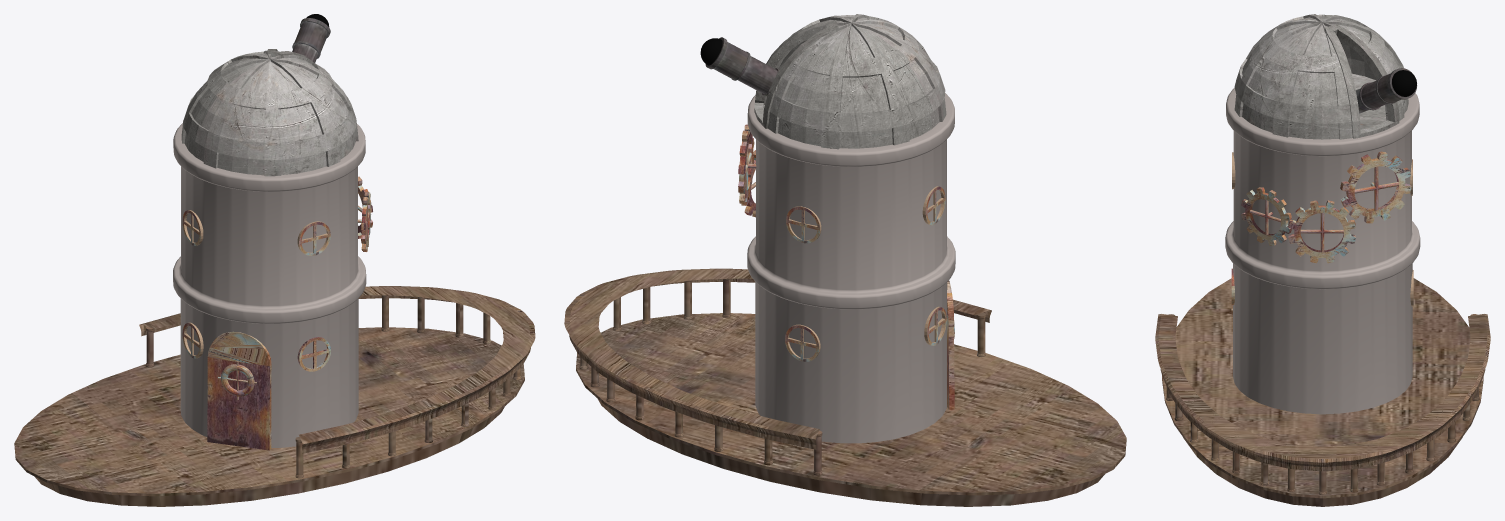
The model's file is Steampunk Tower.fbx.
3 views of the same model, side by side, from view 1: azimuth 30°, elevation 25°; view 2: azimuth 150°, elevation 25°; view 3: azimuth 270°, elevation 25° (orthographic). The views are drawn at different scales.
Parts seen in each view (by area): view 1: Wood, Main Tube, Top Sphere, Door, Gears, Lens Shaft; view 2: Wood, Main Tube, Top Sphere, Gears, Lens Shaft, Door; view 3: Main Tube, Wood, Top Sphere, Gears, Lens Shaft, Lens.
Part boxes in pixels (left/top/right/bottom): Wood: left=14, top=286, right=535, bottom=506; Main Tube: left=173, top=123, right=366, bottom=447; Top Sphere: left=181, top=49, right=358, bottom=176; Door: left=207, top=331, right=271, bottom=450; Gears: left=182, top=176, right=372, bottom=371; Lens Shaft: left=292, top=18, right=330, bottom=62; Wood: left=564, top=268, right=1126, bottom=506; Main Tube: left=747, top=93, right=955, bottom=443; Top Sphere: left=754, top=14, right=946, bottom=149; Gears: left=738, top=124, right=946, bottom=361; Lens Shaft: left=705, top=37, right=779, bottom=96; Door: left=947, top=280, right=954, bottom=410; Main Tube: left=1225, top=88, right=1420, bottom=414; Wood: left=1155, top=278, right=1490, bottom=506; Top Sphere: left=1234, top=14, right=1408, bottom=139; Gears: left=1231, top=151, right=1413, bottom=306; Lens Shaft: left=1355, top=68, right=1417, bottom=113; Lens: left=1392, top=70, right=1416, bottom=96.
Bounding box in the file's own units: 22.42 × 16.03 × 13.03.
